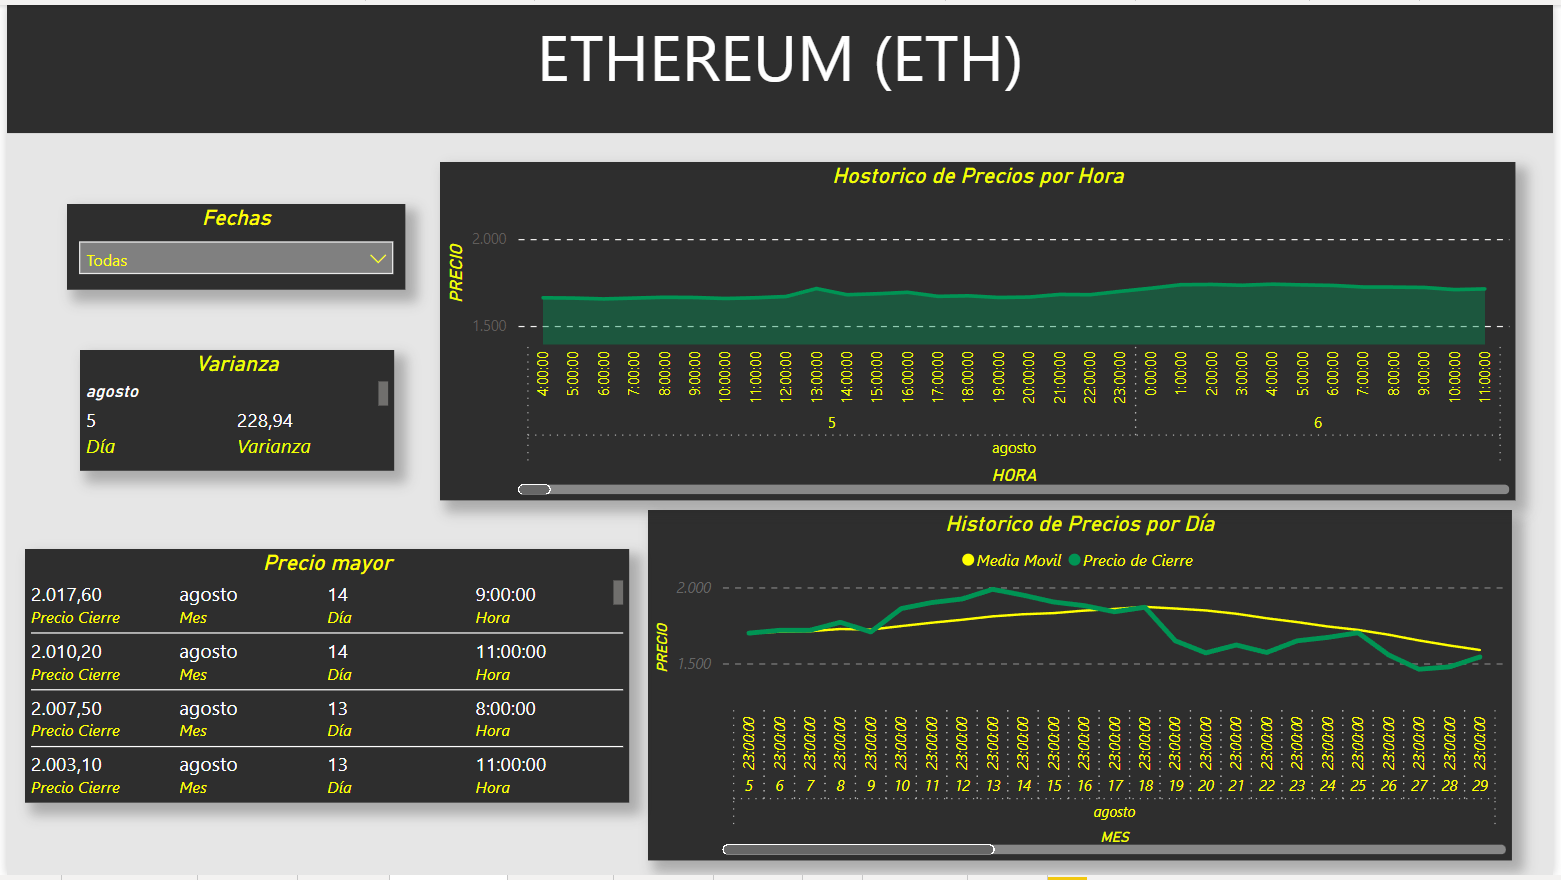

The dashboard page shown, as its layout file describes it:
{"tool":"powerbi","page":{"name":"Ethereum ETH","canvas":[1280,720],"ordinal":4},"visuals":[{"type":"areaChart","title":"Historico de Precios por Día","fields":{"Category":["ETH.Time.ETH.Variación.Jerarquía de fechas.Mes","ETH.Time.ETH.Variación.Jerarquía de fechas.Día","ETH.Hour.ETH"],"Y":["ETH.Media Movil ETH","Avg(ETH.Close.ETH)"]},"box":[530.3,418,714.7,289.8],"z":0},{"type":"multiRowCard","title":"Precio mayor","fields":{"Values":["ETH.Close.ETH","ETH.Time.ETH.Variación.Jerarquía de fechas.Mes","ETH.Time.ETH.Variación.Jerarquía de fechas.Día","ETH.Hour.ETH"]},"box":[15,450.4,500.5,210],"z":1000},{"type":"slicer","title":"Fechas","fields":{"Values":["ETH.Time.ETH.Variación.Jerarquía de fechas.Mes","ETH.Time.ETH.Variación.Jerarquía de fechas.Día"]},"box":[50,165,280.1,70.8],"z":2000},{"type":"areaChart","title":"Hostorico de Precios por Hora","fields":{"Category":["ETH.Time.ETH.Variación.Jerarquía de fechas.Mes","ETH.Time.ETH.Variación.Jerarquía de fechas.Día","ETH.Hour.ETH"],"Y":["Avg(ETH.Close.ETH)"]},"box":[358.2,130,890.3,280.1],"z":3000},{"type":"textbox","box":[0,0,1280.2,106.2],"z":4000},{"type":"multiRowCard","title":"Varianza","fields":{"Values":["ETH.Time.ETH.Variación.Jerarquía de fechas.Mes","ETH.Time.ETH.Variación.Jerarquía de fechas.Día","Sum(ETH.Close.ETH)"]},"box":[60,285.1,259.8,100.1],"z":5000}]}

Visuals, with their boxes in screenshot pixels (x1, y1, x2, y2), scaled from the page's 1280x720 canvas onto the 1561x880 screenshot:
"Historico de Precios por Día" areaChart: box=[647, 511, 1518, 865]
"Precio mayor" multiRowCard: box=[18, 550, 629, 807]
"Fechas" slicer: box=[61, 202, 403, 288]
"Hostorico de Precios por Hora" areaChart: box=[437, 159, 1523, 501]
textbox: box=[0, 0, 1560, 130]
"Varianza" multiRowCard: box=[73, 348, 390, 471]
